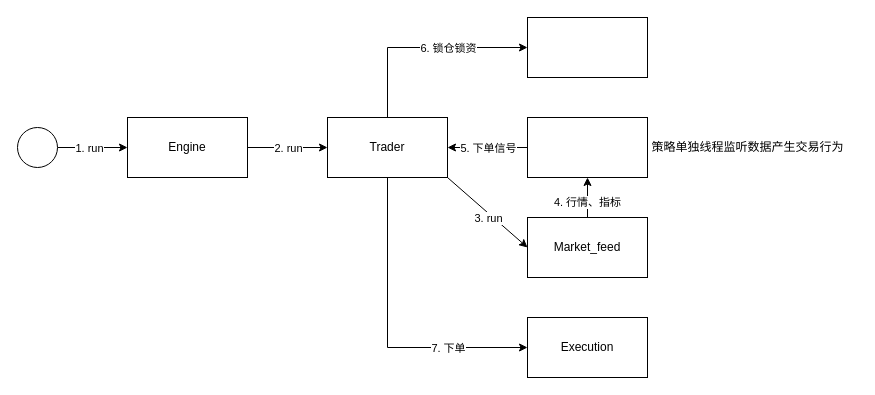
Image size: 875x395. Some labels were removed from this diagram. Each missing label, with the centre of its shape:
"Portfolio" goes at point (587, 47).
"Strategy" goes at point (587, 147).
